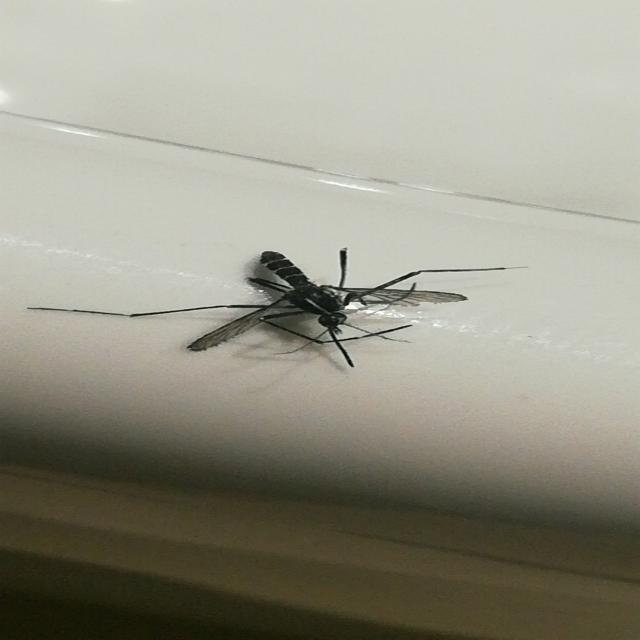albopictus: (34, 244, 546, 374)
